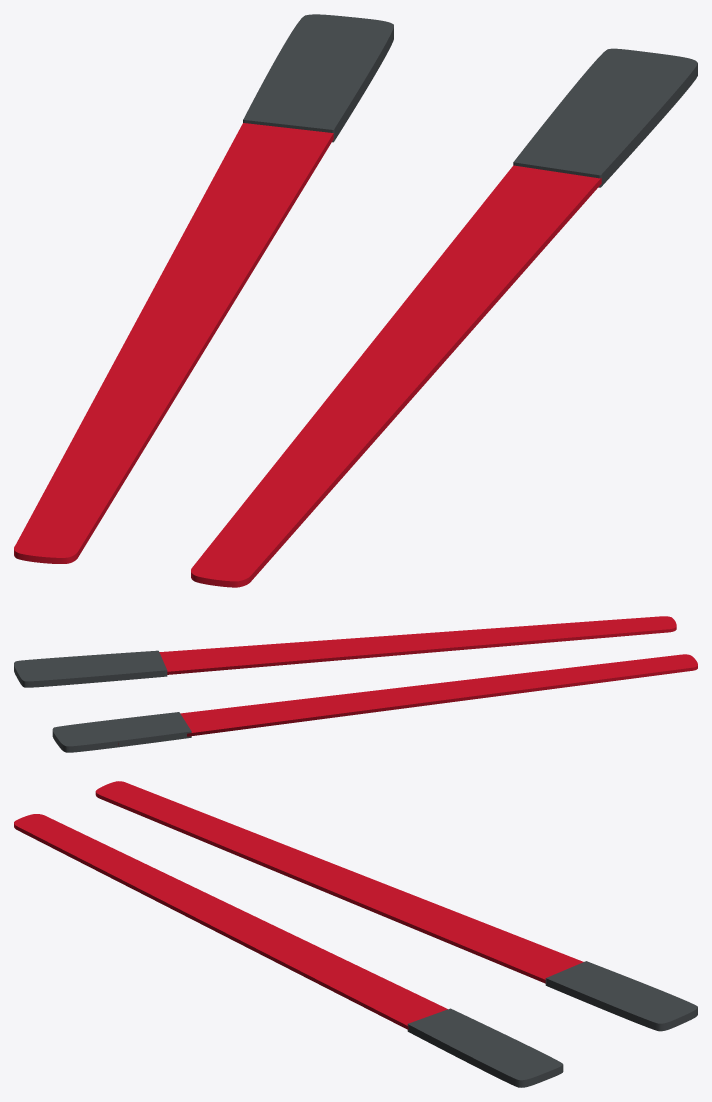
The model's file is emoji_u1f962.glb.
The picture shows the model from 3 angles, top to bottom: view 1: azimuth 30°, elevation 25°; view 2: azimuth 150°, elevation 25°; view 3: azimuth 270°, elevation 25°; orthographic projection. The views are drawn at different scales.
Parts seen in each view (by area): view 1: emoji_u1f962; view 2: emoji_u1f962; view 3: emoji_u1f962.
Boxes of the visible parts, x1=… form: emoji_u1f962: x1=14, y1=14, x2=697, y2=587; emoji_u1f962: x1=14, y1=616, x2=697, y2=752; emoji_u1f962: x1=14, y1=781, x2=697, y2=1087.
Bounding box in the file's own units: 0.0341 × 0.0004 × 0.0327.
